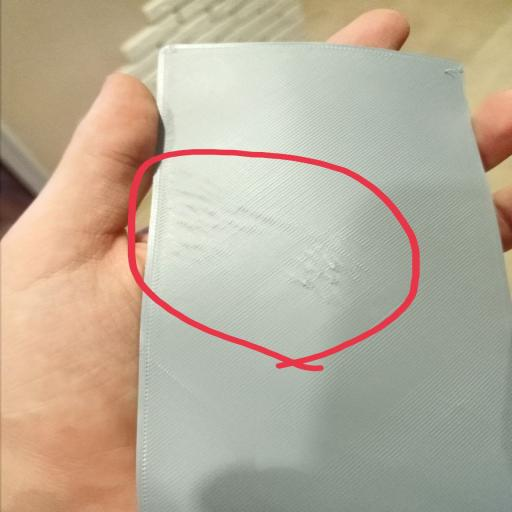blobs: (295, 251, 350, 298)
